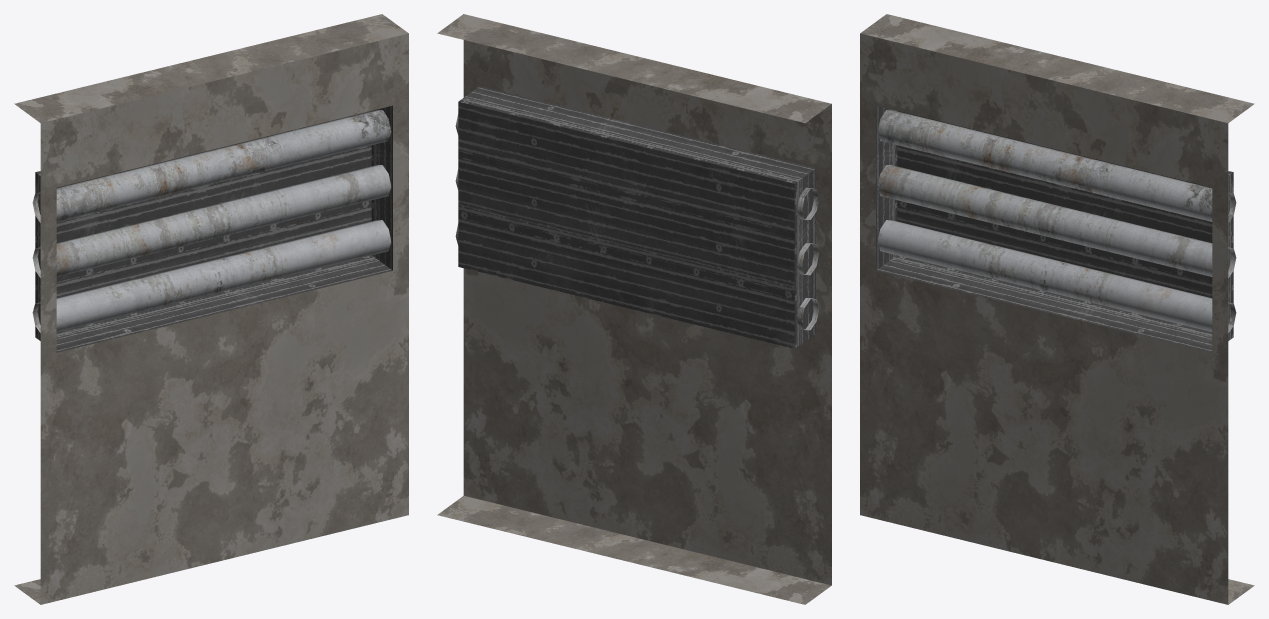
File: WallSinglePipes.glb
3 views of the same model, side by side, from view 1: azimuth 30°, elevation 25°; view 2: azimuth 150°, elevation 25°; view 3: azimuth 330°, elevation 25° (orthographic).
Visible parts, largest first — view 1: Wall_Single_Recess_Pipes_Cube.001; view 2: Wall_Single_Recess_Pipes_Cube.001; view 3: Wall_Single_Recess_Pipes_Cube.001.
Part boxes in pixels (x1,y1,x2,y2): Wall_Single_Recess_Pipes_Cube.001: (14,14,408,604); Wall_Single_Recess_Pipes_Cube.001: (437,14,831,604); Wall_Single_Recess_Pipes_Cube.001: (860,14,1254,604).
Size of the model in its own units: 4 by 5 by 0.5.
3 materials, 3 textured.
